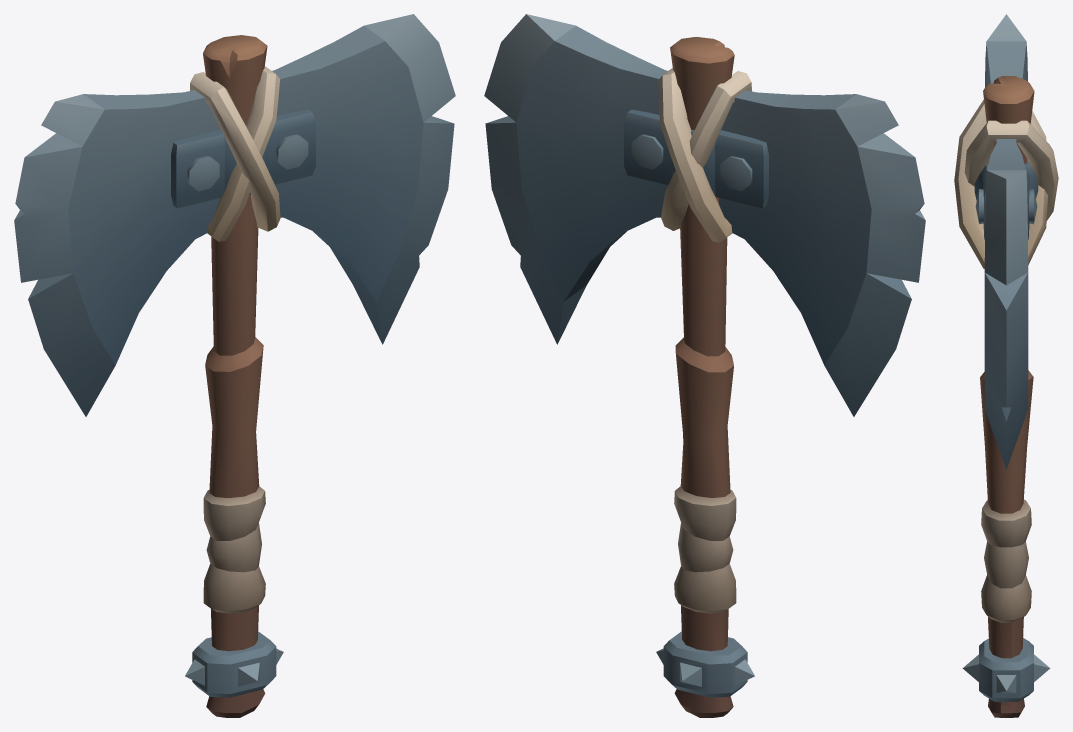
Rendered from axe_B.fbx.
3 renders of one model, left to right at view 1: azimuth 30°, elevation 25°; view 2: azimuth 150°, elevation 25°; view 3: azimuth 270°, elevation 25°, orthographic. The views are drawn at different scales.
Parts seen in each view (by area): view 1: axe_B; view 2: axe_B; view 3: axe_B.
Part boxes in pixels (x1=…): axe_B: x1=14, y1=14, x2=455, y2=717; axe_B: x1=484, y1=14, x2=925, y2=717; axe_B: x1=954, y1=14, x2=1058, y2=717.
Bounding box in the file's own units: 1.15 × 1.66 × 0.2504.
